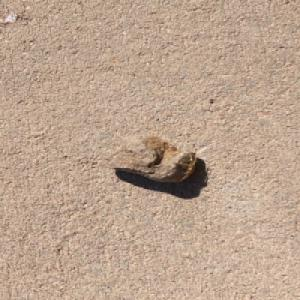Rock: (97, 133, 198, 182)
